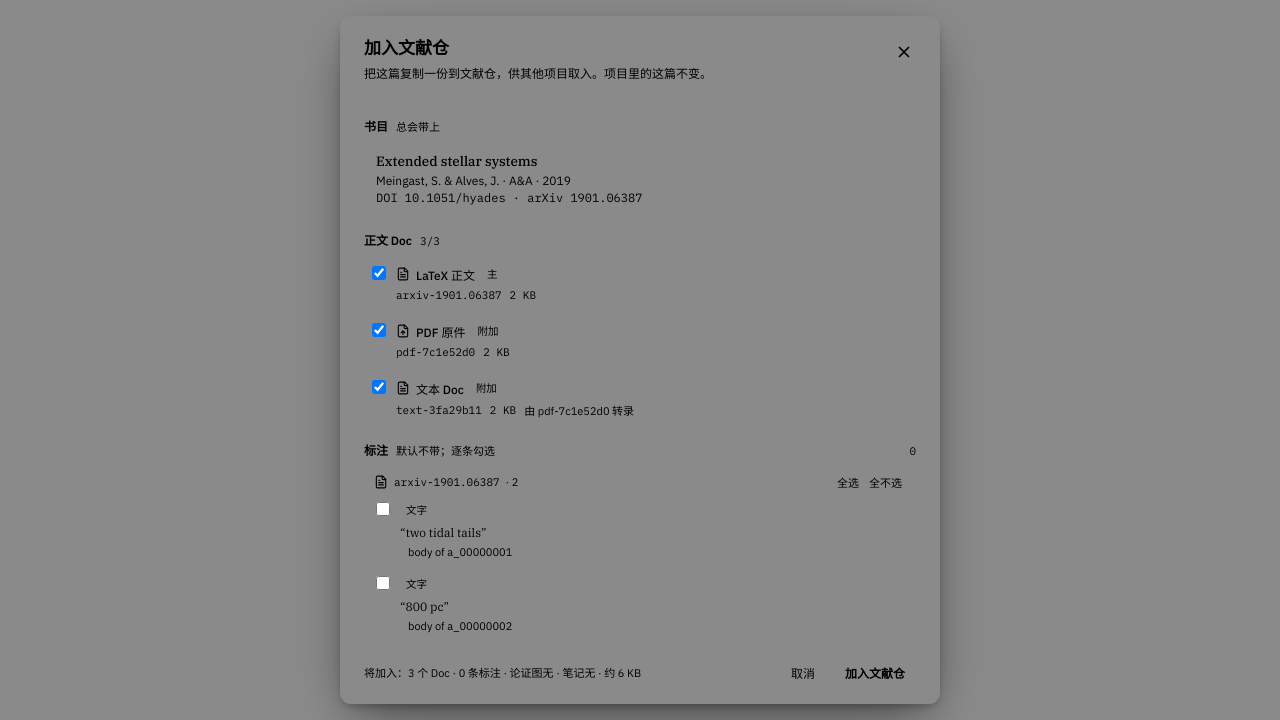
add to Shelf dialog › checking a text Doc checks its source PDF too (which can be unchecked); an unchecked Doc's annotations cannot be chosen
The image size is (1280, 720).
Expected: the text "由 pdf-7c1e52d0 转录" is shown, x1=524 y1=402 x2=634 y2=418
Click the checkbox labelled "PDF 原件 附加 pdf-7c1e52d0 2 KB": (379, 330) x1=372 y1=323 x2=386 y2=337
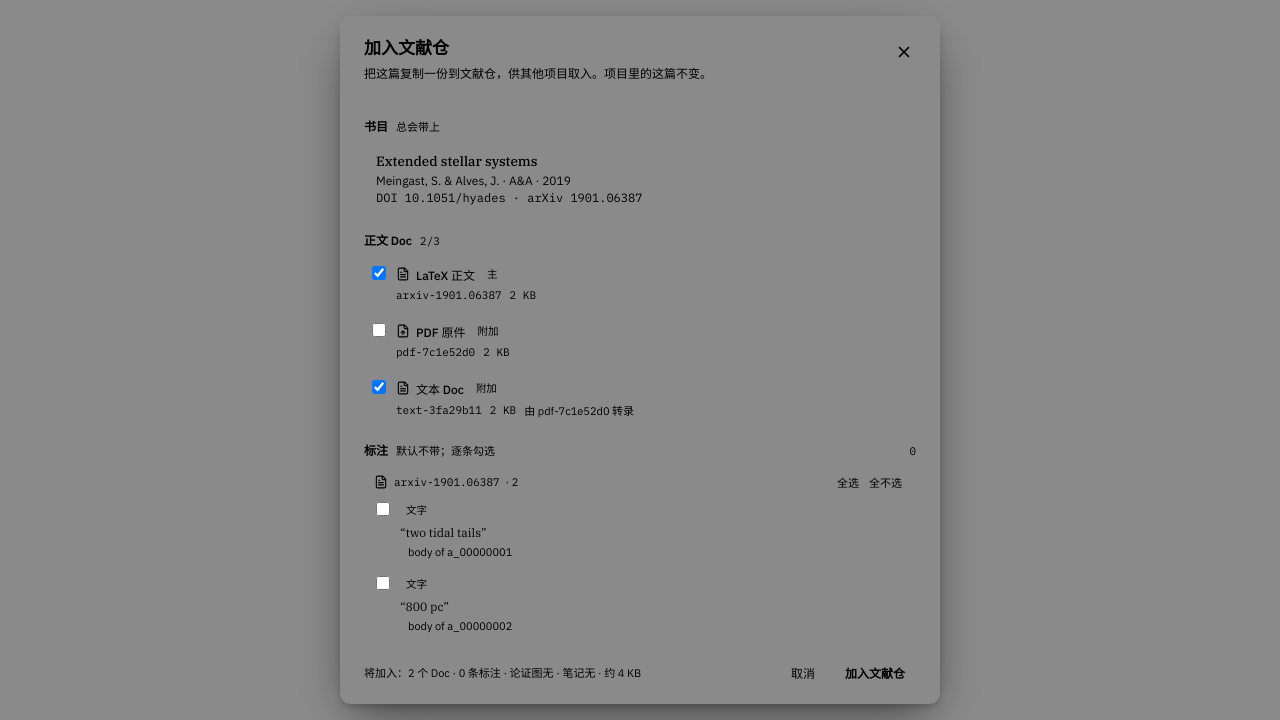
Click the checkbox labelled "文本 Doc 附加 text-3fa29b11 2 KB 由 pdf-7c1e52d0 转录": (379, 387) x1=372 y1=380 x2=386 y2=394
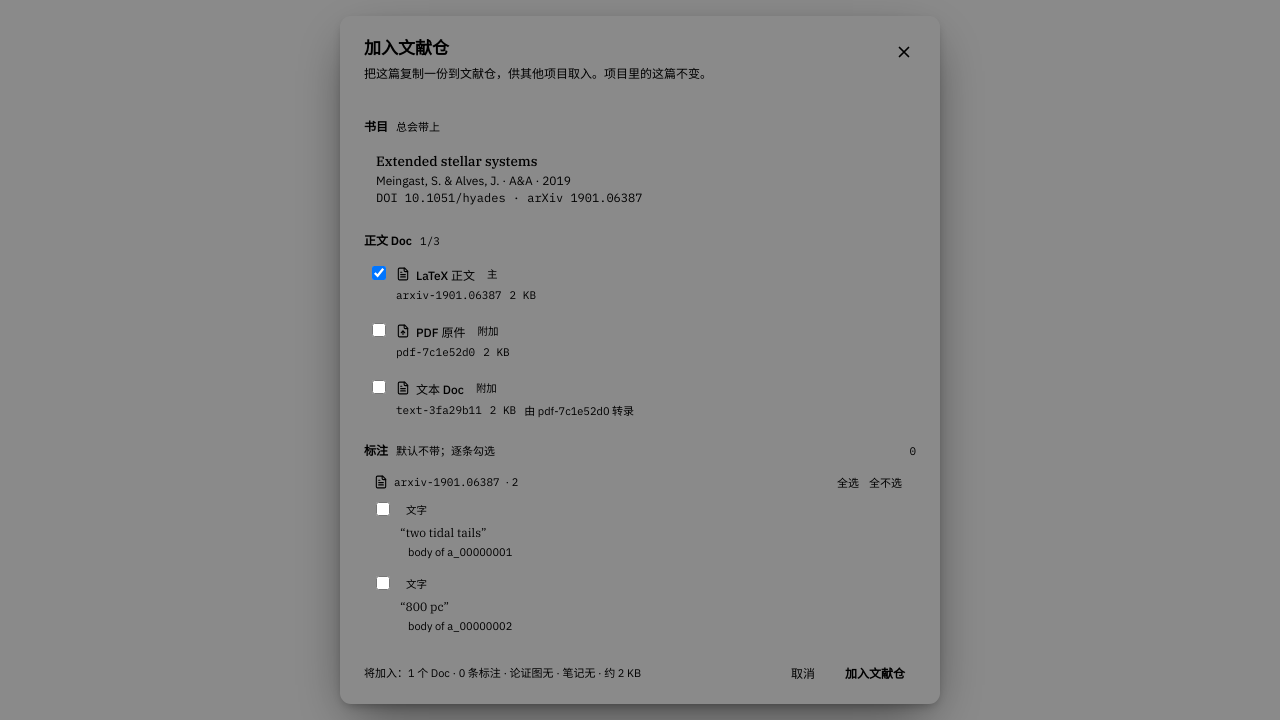
Expected: the checkbox labelled "文本 Doc 附加 text-3fa29b11 2 KB 由 pdf-7c1e52d0 转录" is not checked
Click the checkbox labelled "文本 Doc 附加 text-3fa29b11 2 KB 由 pdf-7c1e52d0 转录": (379, 387) x1=372 y1=380 x2=386 y2=394
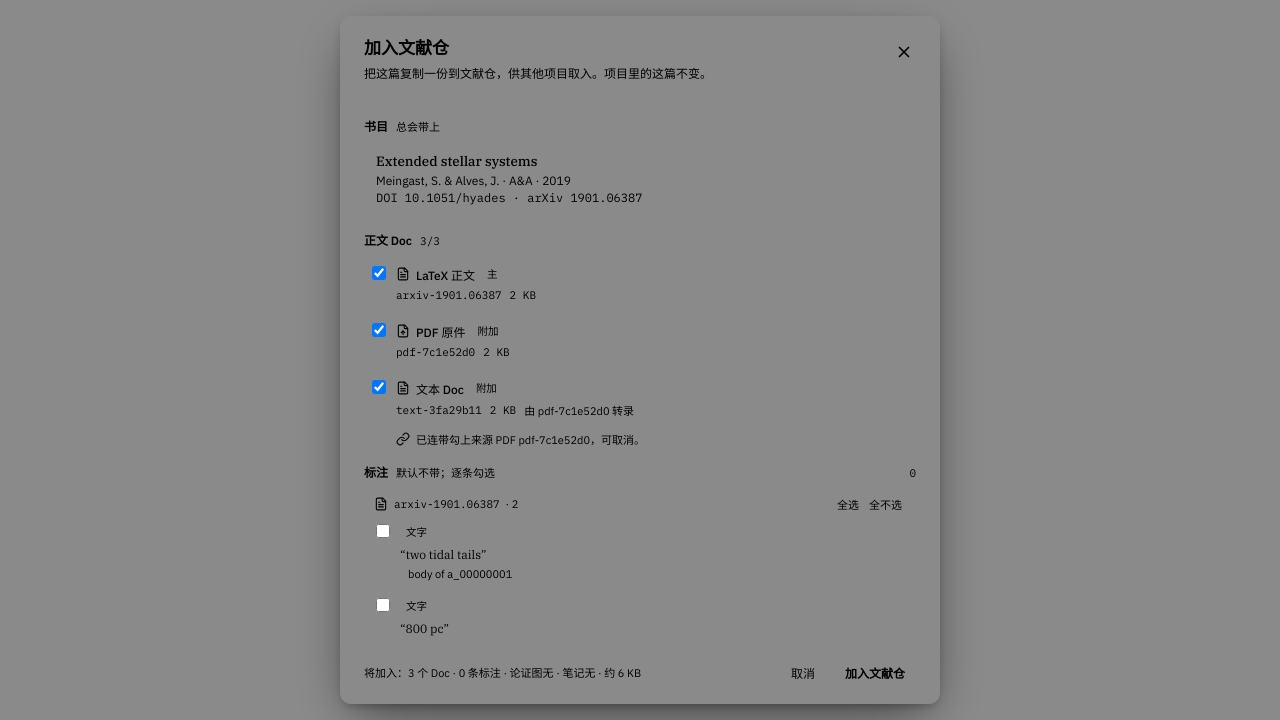
Expected: the checkbox labelled "PDF 原件 附加 pdf-7c1e52d0 2 KB" is checked
Expected: the message "已连带勾上来源 PDF pdf-7c1e52d0，可取消。" is shown, x1=396 y1=432 x2=645 y2=447
Click the checkbox labelled "PDF 原件 附加 pdf-7c1e52d0 2 KB": (379, 330) x1=372 y1=323 x2=386 y2=337
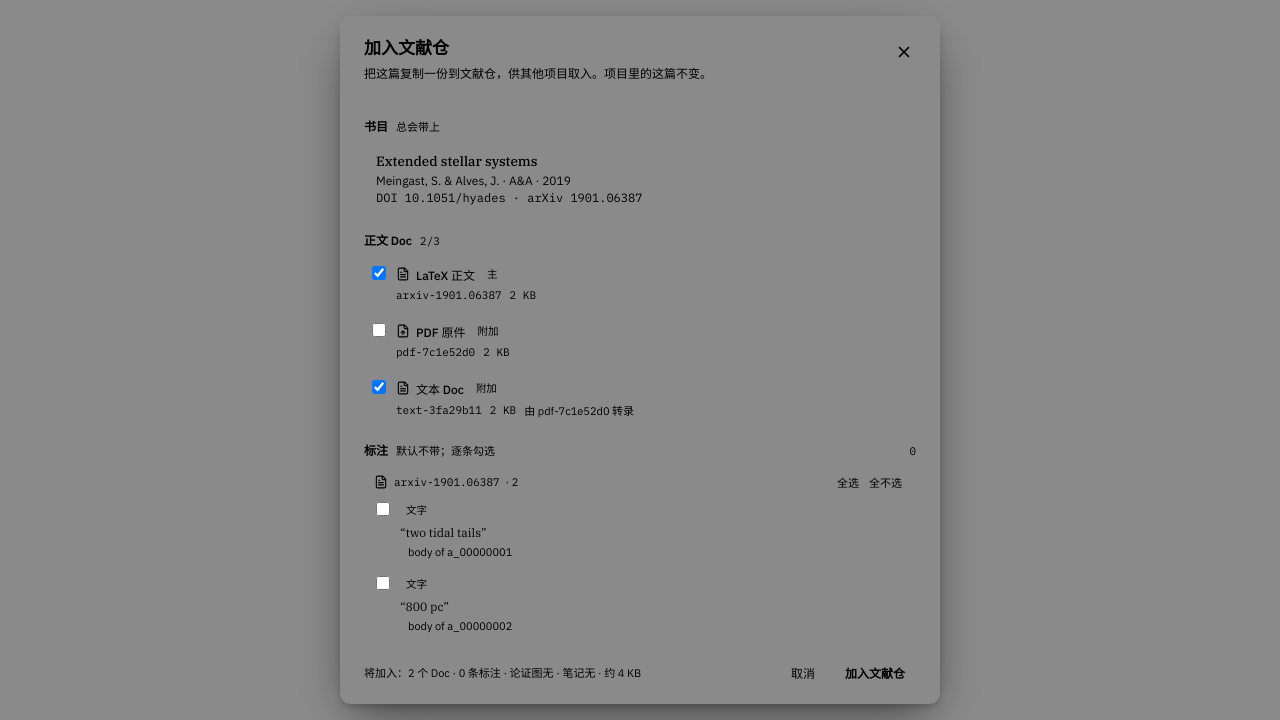
Expected: the text "“two tidal tails”" is shown, x1=400 y1=525 x2=487 y2=540
Expected: the checkbox labelled "PDF 原件 附加 pdf-7c1e52d0 2 KB" is not checked, x1=372 y1=323 x2=386 y2=337
Click the checkbox labelled "LaTeX 正文 主 arxiv-1901.06387 2 KB": (379, 273) x1=372 y1=266 x2=386 y2=280
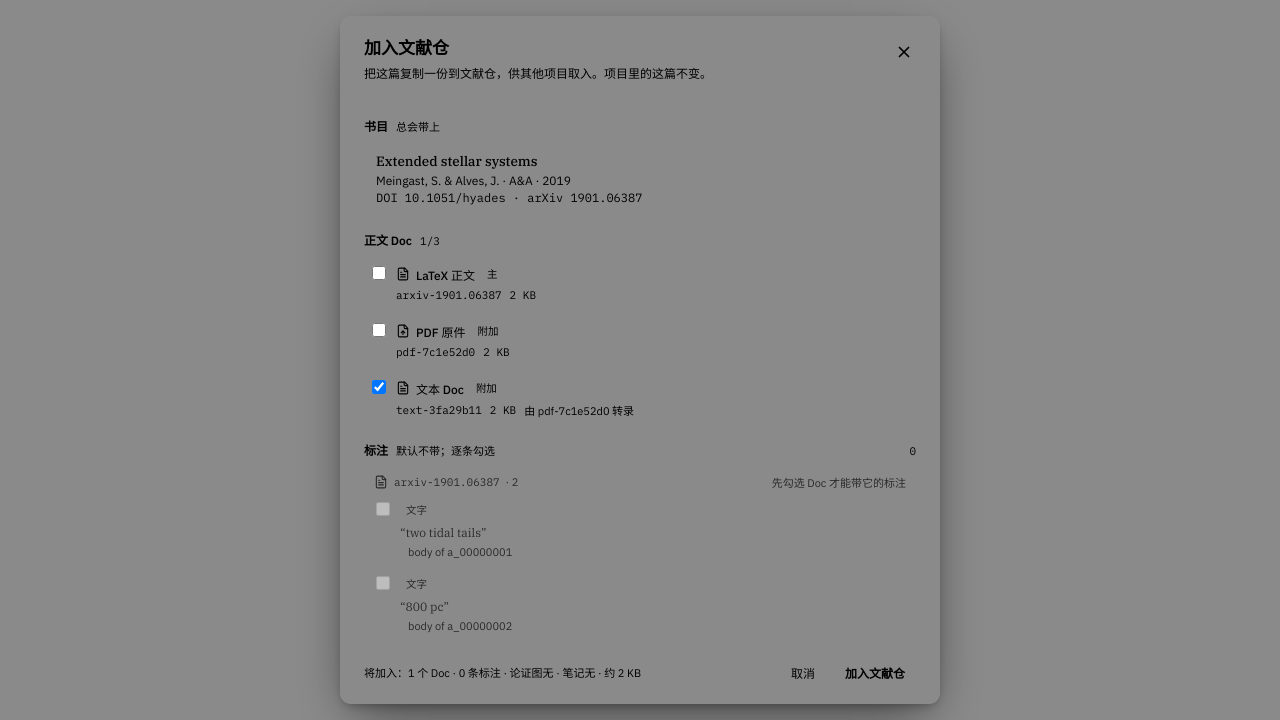
Expected: the checkbox labelled "文字 “two tidal tails” body of a_00000001" is disabled, x1=376 y1=502 x2=390 y2=516
